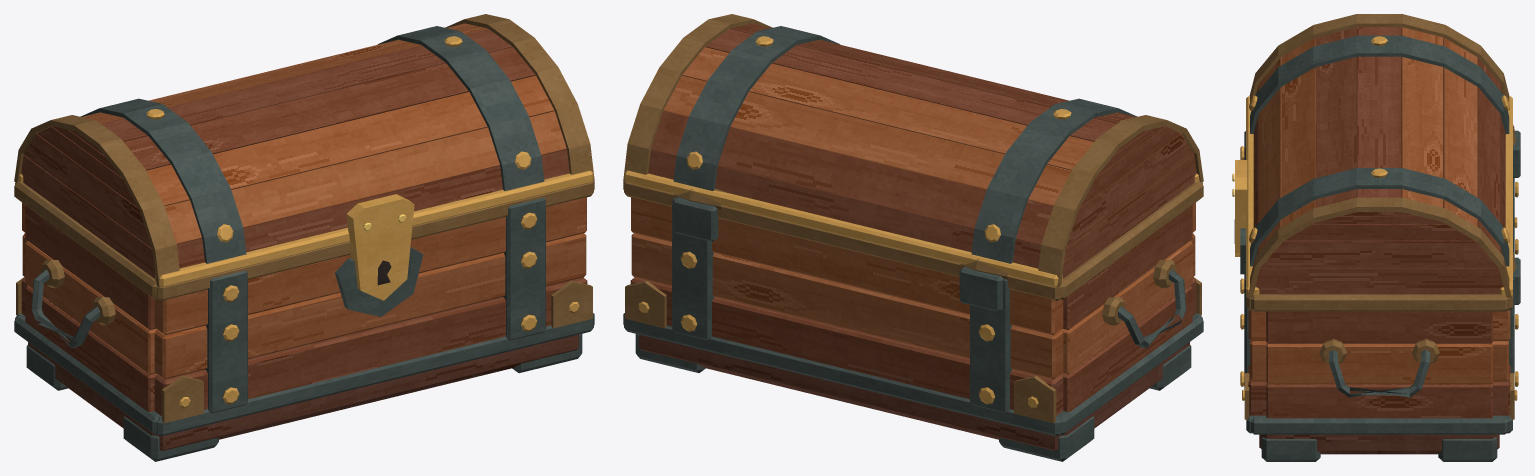
The model's file is chest.glb.
3 renders of one model, left to right at view 1: azimuth 30°, elevation 25°; view 2: azimuth 150°, elevation 25°; view 3: azimuth 270°, elevation 25°, orthographic. The views are drawn at different scales.
Parts seen in each view (by area): view 1: Chest_hinged_lid, Chest_carcase; view 2: Chest_carcase, Chest_hinged_lid; view 3: Chest_hinged_lid, Chest_carcase.
Part boxes in pixels (x1=…): Chest_hinged_lid: x1=14, y1=14, x2=594, y2=300; Chest_carcase: x1=14, y1=181, x2=594, y2=461; Chest_carcase: x1=623, y1=181, x2=1203, y2=461; Chest_hinged_lid: x1=623, y1=14, x2=1203, y2=287; Chest_hinged_lid: x1=1232, y1=14, x2=1512, y2=297; Chest_carcase: x1=1240, y1=125, x2=1520, y2=461.
Size of the model in its own units: 1.73 by 0.947 by 0.94.
Materials: 1 (1 with a texture image).
